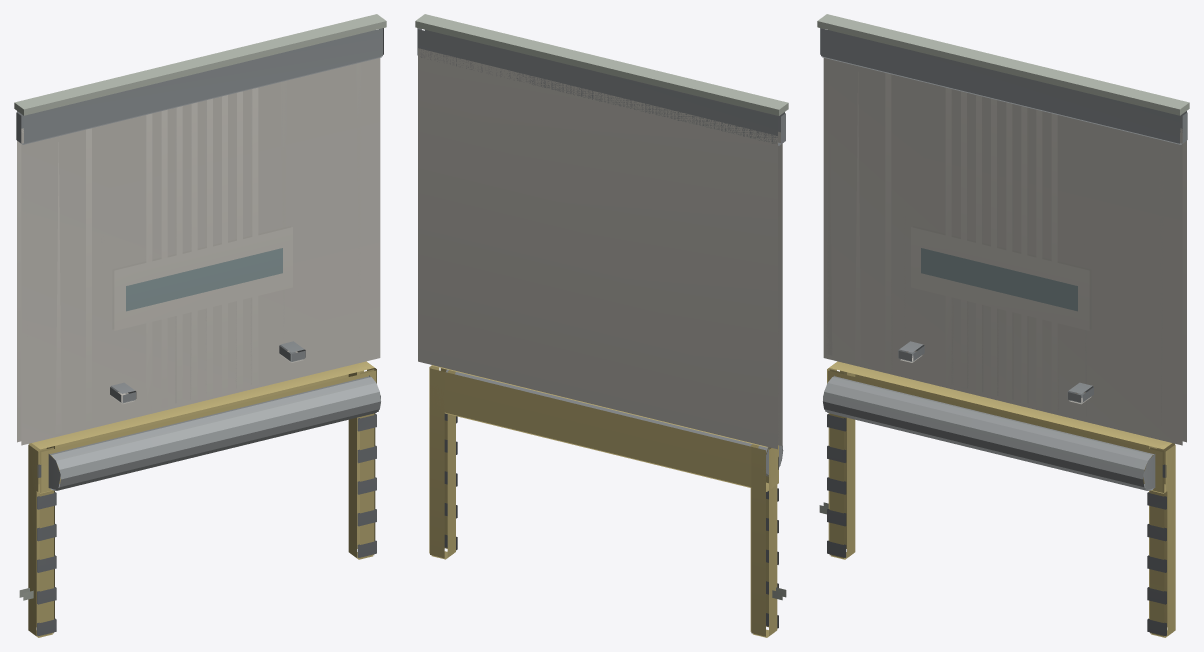
The model's file is hangar_door.lod.glb.
The picture shows the model from 3 angles, left to right: view 1: azimuth 30°, elevation 25°; view 2: azimuth 150°, elevation 25°; view 3: azimuth 330°, elevation 25°; orthographic projection.
Visible parts, largest first — view 1: hangar_door; view 2: hangar_door; view 3: hangar_door.
Boxes of the visible parts, left/top/right/bottom form: hangar_door: left=14, top=14, right=386, bottom=637; hangar_door: left=415, top=14, right=788, bottom=637; hangar_door: left=817, top=14, right=1189, bottom=637.
Bounding box in the file's own units: 12 × 16.8 × 1.45.
